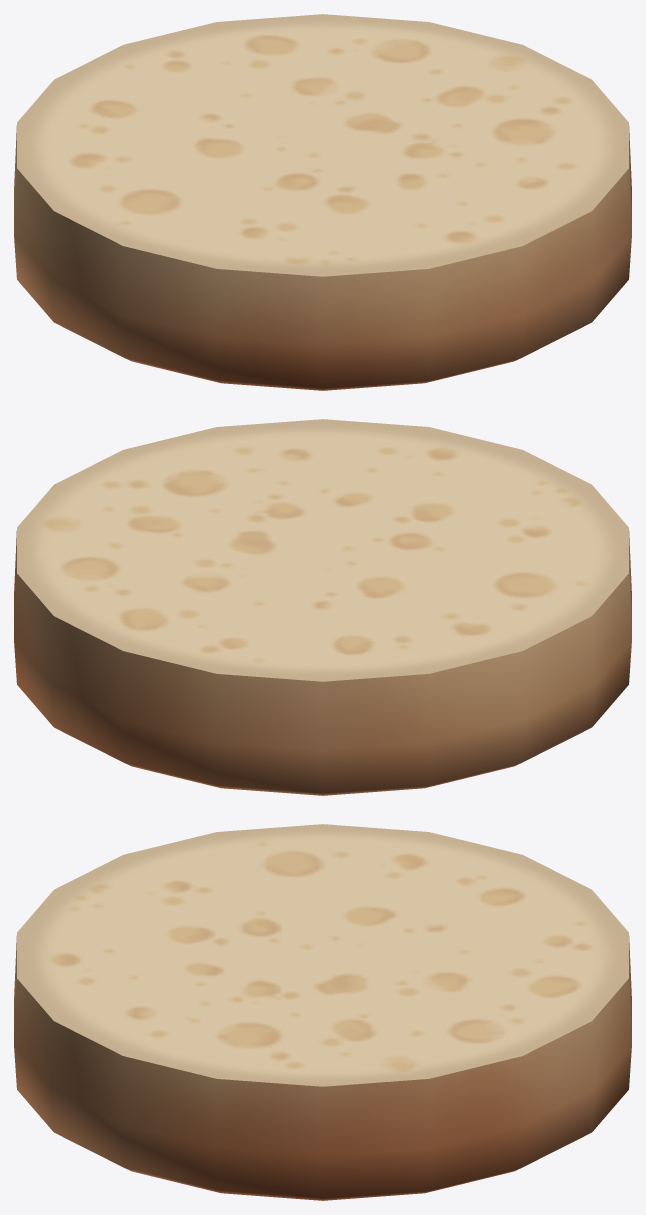
Rendered from breadbottom.FBX.
The picture shows the model from 3 angles, top to bottom: view 1: azimuth 30°, elevation 25°; view 2: azimuth 150°, elevation 25°; view 3: azimuth 270°, elevation 25°; orthographic projection.
Visible parts, largest first — view 1: breadbottom; view 2: breadbottom; view 3: breadbottom.
Part boxes in pixels (<box>): breadbottom: <box>14,14,631,390</box>; breadbottom: <box>14,419,631,795</box>; breadbottom: <box>14,824,631,1200</box>.
Bounding box in the file's own units: 20.19 × 4.25 × 19.89.
